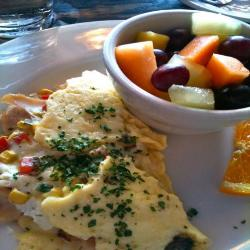omelette: (3, 77, 195, 250)
